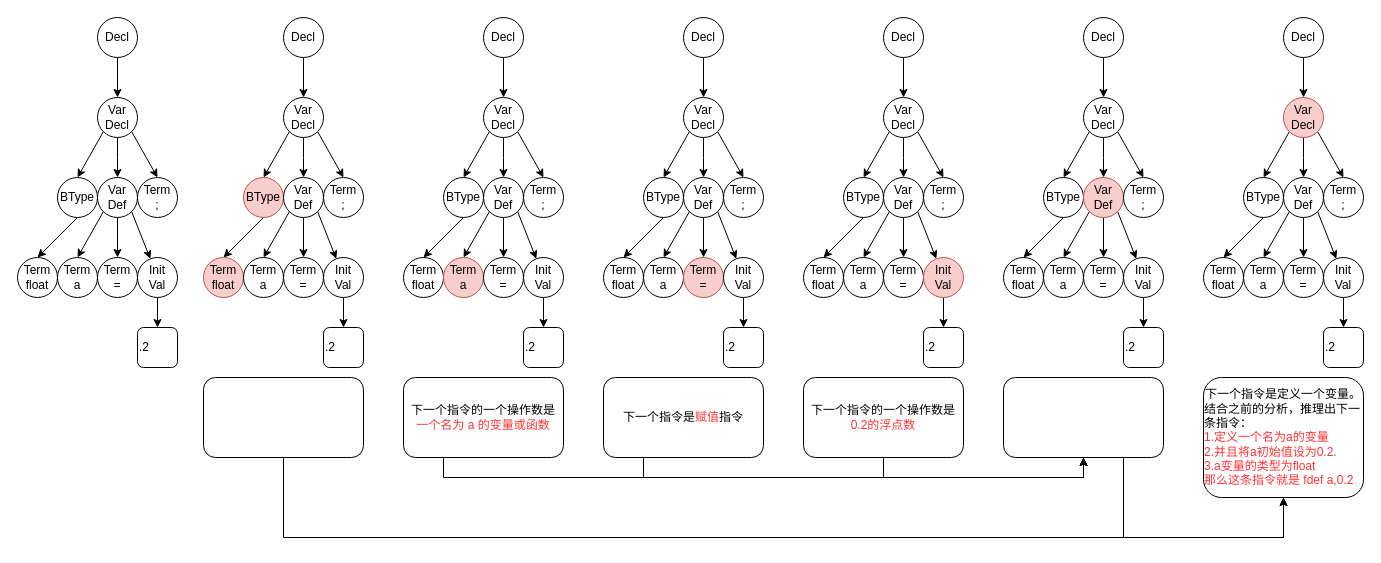
Image size: 1381x563. Some labels were removed from this diagram. Each missing label, with the centre of its shape:
下一个指令是 定义一个变量 。 结合之前的分析，推理出下一条指令： 1.定义一个名为a的变量 2.并且将a初始值设为0.2.: [1083,417]
下一个指令是定义一个 float类型的变量/ 返回值为float的函数: [283,417]
